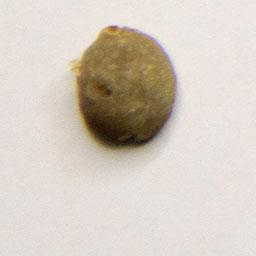defect: (68, 20, 182, 153)
